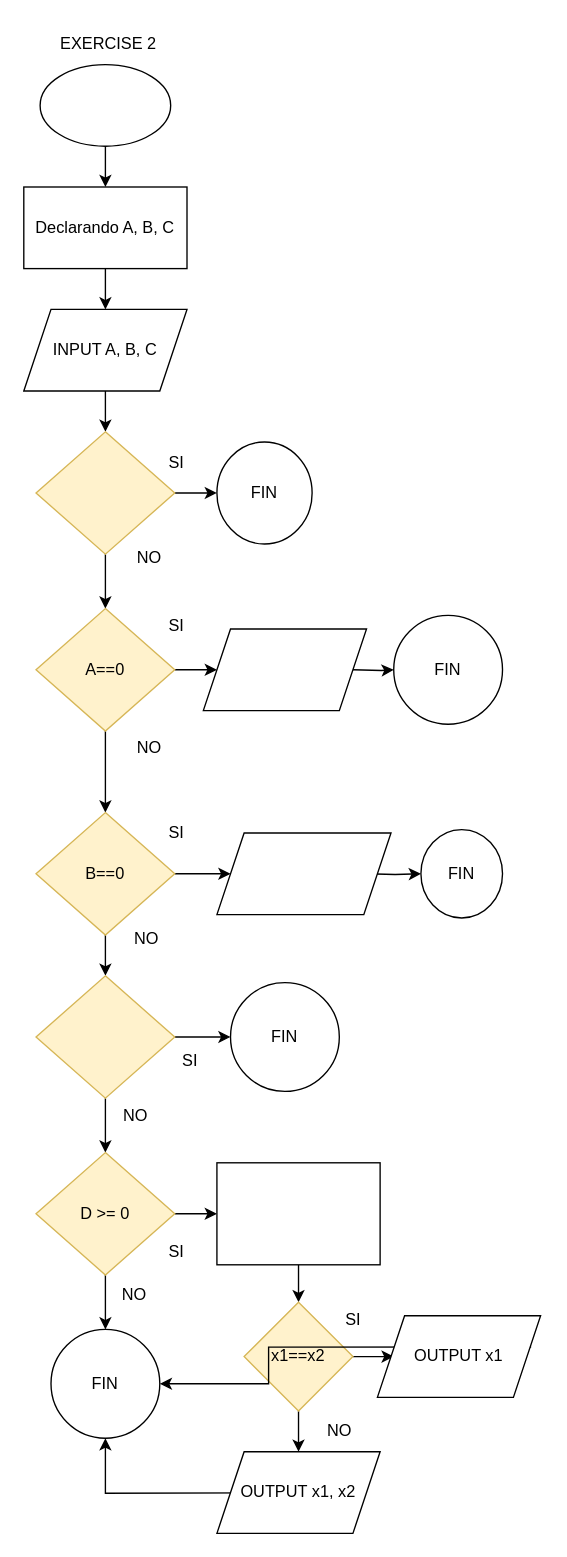
Image size: 567x1557. Some labels were removed from this diagram. Each missing label, with the centre of its shape:
A==0 y B==0: pixel 105 492
D < 0: pixel 105 1036
INICIO: pixel 105 104
OUTPUT (-C/A)^2: pixel 303 873
OUTPUT -C/B: pixel 284 669
x1= (-B+D^2) / (2*A) x2= (-B-D^2) / (2*A): pixel 298 1213
